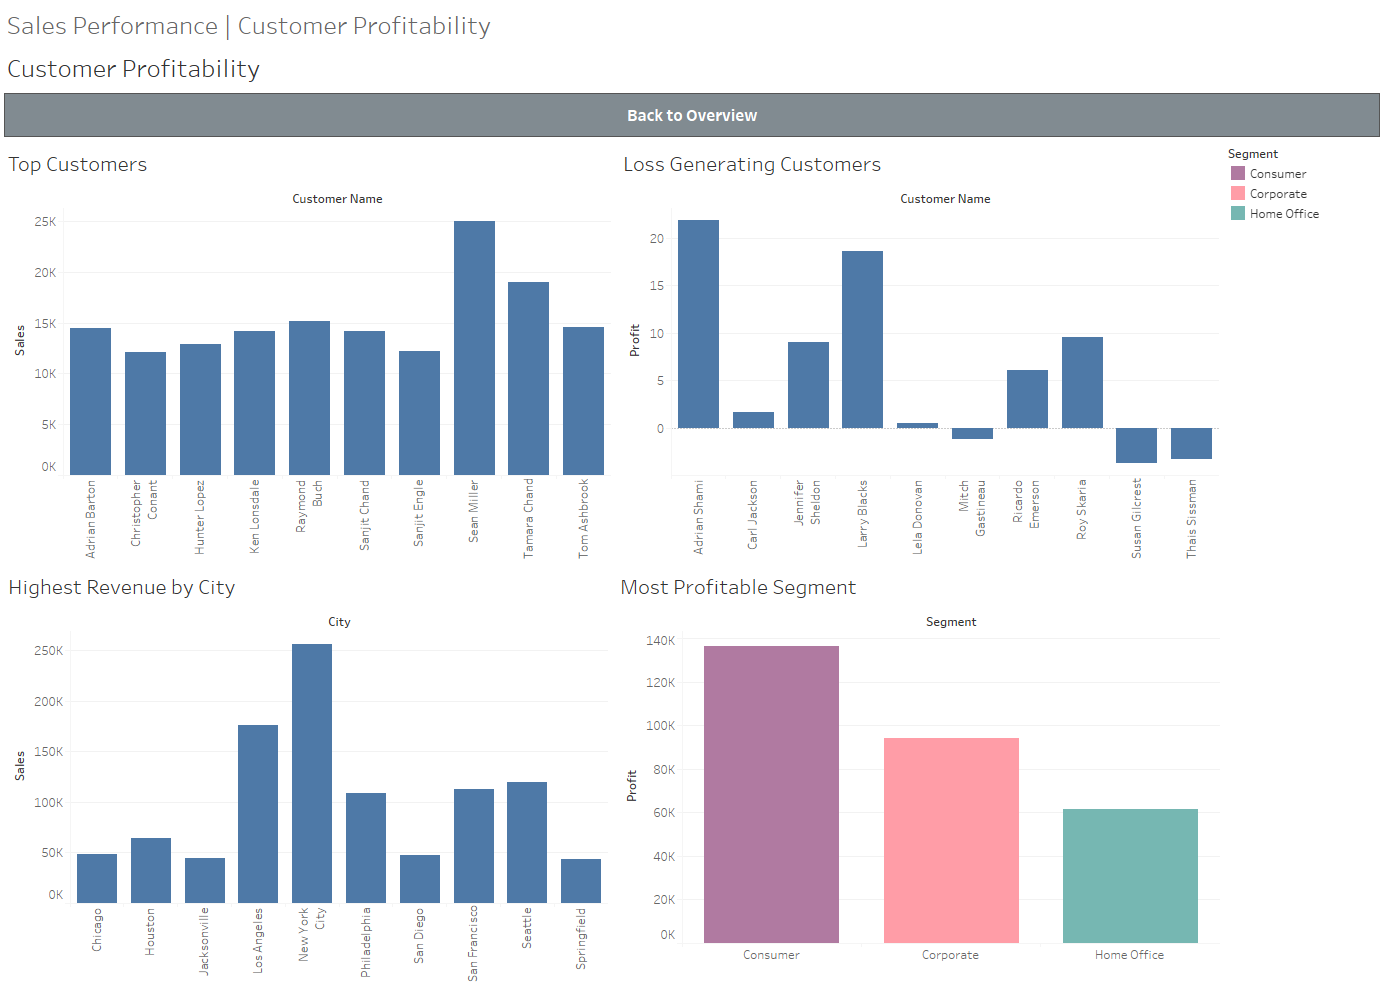

The page's visual inventory and layout, read from the dashboard file:
{"tool":"tableau","page":{"name":"Customer Profitability","canvas":[1400,1000],"ordinal":0},"visuals":[{"type":"text","box":[8,8,1384,61]},{"type":"dashboard-object","box":[8,69,1384,52]},{"type":"worksheet","title":"Top Customers","mark":"Automatic","rows":["Sales"],"cols":["Customer Name"],"box":[8,121,695.4,435.4]},{"type":"worksheet","title":"Loss Generating Customers","mark":"Automatic","rows":["Profit"],"cols":["Customer Name"],"box":[703.4,121,688.4,435.4]},{"type":"worksheet","title":"Highest Revenue by City","mark":"Automatic","rows":["Sales"],"cols":["City"],"box":[8,556.4,692,435.6]},{"type":"worksheet","title":"Most Profitable Segment","mark":"Bar","rows":["Profit"],"cols":["Segment"],"box":[700,556.4,692,435.6]}]}

Visuals, with their boxes in screenshot pixels (x1, y1, x2, y2), scaled from the page's 1400x1000 canvas onto the 1389x983 screenshot:
text: left=8, top=8, right=1381, bottom=68
dashboard-object: left=8, top=68, right=1381, bottom=119
"Top Customers" worksheet: left=8, top=119, right=698, bottom=547
"Loss Generating Customers" worksheet: left=698, top=119, right=1381, bottom=547
"Highest Revenue by City" worksheet: left=8, top=547, right=694, bottom=975
"Most Profitable Segment" worksheet (Bar marks): left=694, top=547, right=1381, bottom=975
